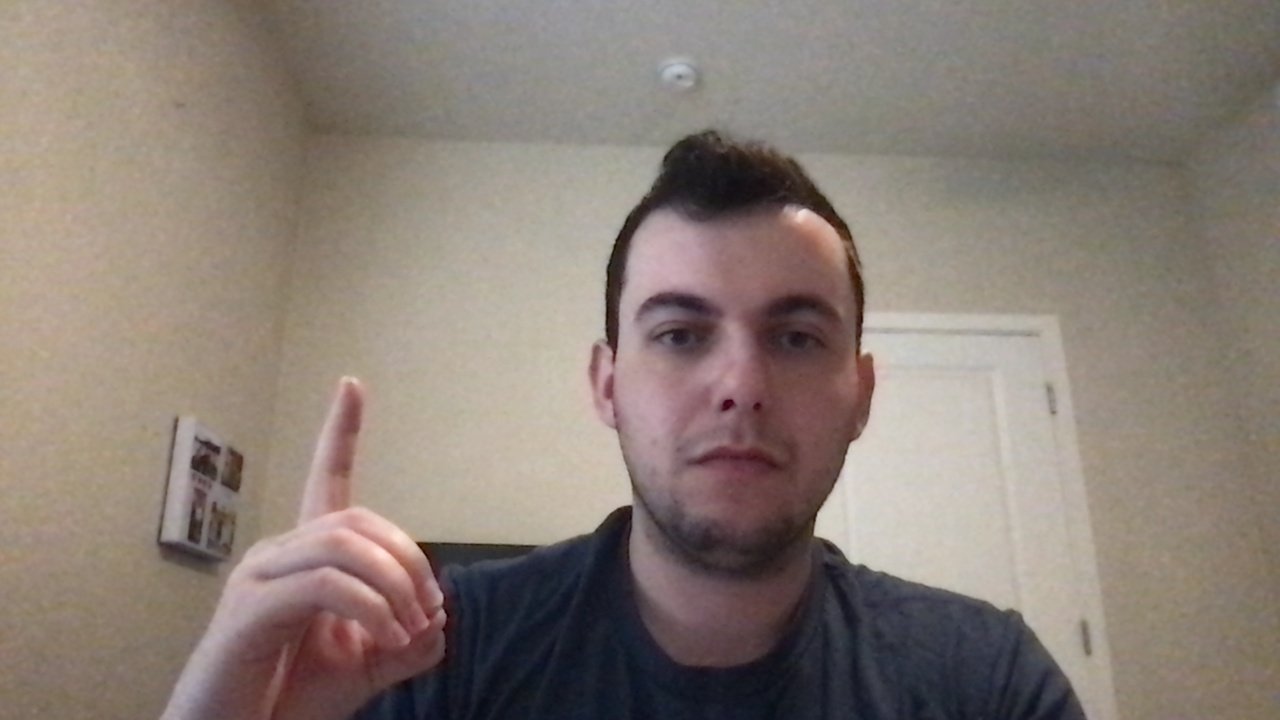d: (194, 368, 465, 713)
